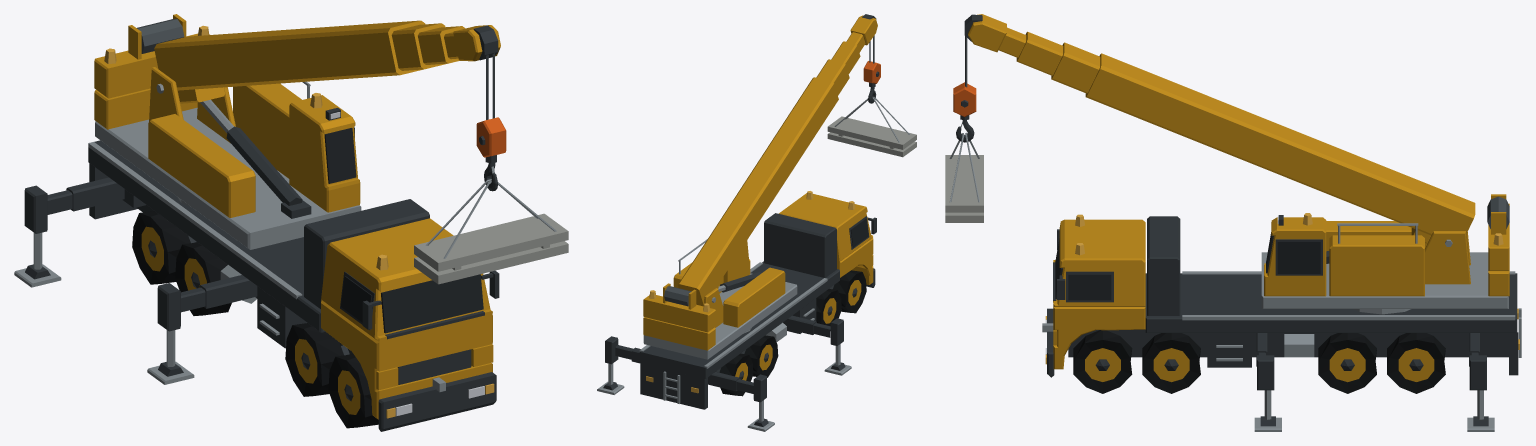
File: mobile-crane-671d3f.glb
3 renders of one model, left to right at view 1: azimuth 30°, elevation 25°; view 2: azimuth 150°, elevation 25°; view 3: azimuth 270°, elevation 25°, orthographic. The views are drawn at different scales.
Parts seen in each view (by area): view 1: carrier-body, superstructure, boom-base, wheel-mesh-r (×4), slung-planks, boom-telescopes, outrigger-stages, outrigger-beam-fr, outrigger-beam-rr, crane-hook-block, jack-leg-fr, jack-leg-rr; view 2: carrier-body, superstructure, boom-base, wheel-mesh-r (×4), slung-planks, boom-telescopes, outrigger-stages, outrigger-beam-fr, outrigger-beam-rr, outrigger-beam-rl, crane-hook-block, jack-leg-rl (+2 smaller); view 3: carrier-body, superstructure, boom-base, wheel-mesh-l (×4), boom-telescopes, slung-planks, crane-hook-block, outrigger-beam-fl, outrigger-beam-rl, jack-leg-fl, jack-leg-rl.
Part boxes in pixels (x1,y1,x2,y2): carrier-body: (88, 140, 499, 431); superstructure: (94, 14, 361, 249); boom-base: (154, 20, 425, 103); wheel-mesh-r (×4): (132, 211, 378, 428); slung-planks: (414, 179, 568, 284); boom-telescopes: (391, 23, 500, 70); outrigger-stages: (66, 177, 257, 308); outrigger-beam-fr: (157, 283, 205, 331); outrigger-beam-rr: (24, 185, 72, 233); crane-hook-block: (476, 117, 506, 191); jack-leg-fr: (147, 330, 194, 384); jack-leg-rr: (14, 232, 61, 287); carrier-body: (639, 191, 876, 409); superstructure: (643, 239, 797, 359); boom-base: (678, 77, 838, 306); wheel-mesh-r (×4): (719, 270, 866, 396); slung-planks: (827, 97, 916, 157); boom-telescopes: (816, 14, 877, 95); outrigger-stages: (631, 315, 816, 391); outrigger-beam-fr: (813, 318, 843, 345); outrigger-beam-rr: (736, 374, 766, 402); outrigger-beam-rl: (605, 336, 633, 364); crane-hook-block: (863, 61, 880, 103); jack-leg-rl: (597, 363, 624, 394); carrier-body: (1042, 214, 1521, 377); superstructure: (1261, 194, 1509, 314); boom-base: (1085, 53, 1475, 243); wheel-mesh-l (×4): (1073, 330, 1445, 393); boom-telescopes: (964, 14, 1100, 93); slung-planks: (945, 132, 983, 222); crane-hook-block: (953, 82, 976, 142); outrigger-beam-fl: (1257, 352, 1274, 390); outrigger-beam-rl: (1469, 352, 1486, 390); jack-leg-fl: (1254, 390, 1281, 431); jack-leg-rl: (1467, 390, 1494, 431).
Bounding box in the file's own units: 6.25 × 9.19 × 13.41.
